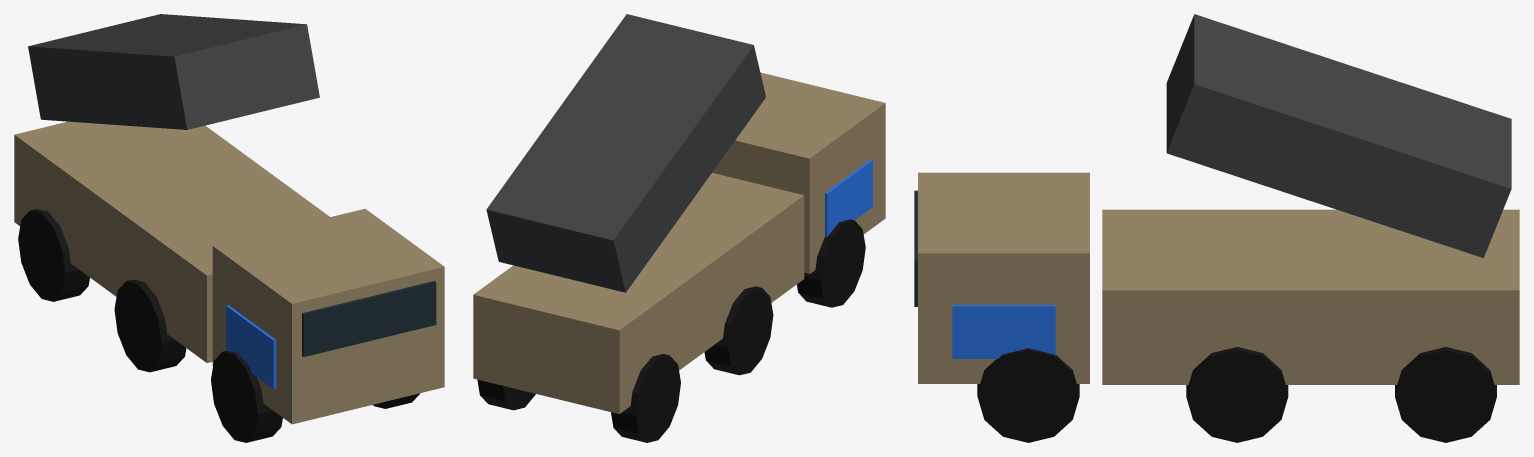
File: ae_swarm_launcher.glb
The picture shows the model from 3 angles, left to right: view 1: azimuth 30°, elevation 25°; view 2: azimuth 150°, elevation 25°; view 3: azimuth 270°, elevation 25°; orthographic projection. The views are drawn at different scales.
Visible parts, largest first — view 1: body, cab, launcher, windshield, wheel_l1, wheel_l2, wheel_l0, team_door_l; view 2: launcher, body, cab, wheel_l2, wheel_l1, wheel_l0, team_door_l, wheel_r2; view 3: body, launcher, cab, wheel_r1, wheel_r2, wheel_r0, team_door_r.
Part boxes in pixels (bbox=[...]): body: bbox=[14, 121, 329, 362]; cab: bbox=[212, 208, 444, 424]; launcher: bbox=[28, 14, 319, 129]; windshield: bbox=[302, 281, 436, 356]; wheel_l1: bbox=[114, 279, 186, 372]; wheel_l2: bbox=[18, 209, 89, 301]; wheel_l0: bbox=[211, 350, 282, 442]; team_door_l: bbox=[226, 305, 276, 388]; launcher: bbox=[486, 14, 765, 292]; body: bbox=[473, 173, 804, 414]; cab: bbox=[712, 72, 885, 273]; wheel_l2: bbox=[611, 354, 680, 442]; wheel_l1: bbox=[704, 286, 773, 375]; wheel_l0: bbox=[797, 219, 865, 307]; team_door_l: bbox=[825, 160, 872, 237]; wheel_r2: bbox=[477, 379, 535, 410]; body: bbox=[1102, 209, 1519, 384]; launcher: bbox=[1166, 14, 1511, 257]; cab: bbox=[918, 172, 1089, 383]; wheel_r1: bbox=[1186, 347, 1288, 442]; wheel_r2: bbox=[1395, 347, 1496, 442]; wheel_r0: bbox=[977, 348, 1079, 442]; team_door_r: bbox=[952, 305, 1055, 358].
Bounding box in the file's own units: 2.5 × 4.66 × 7.3.
